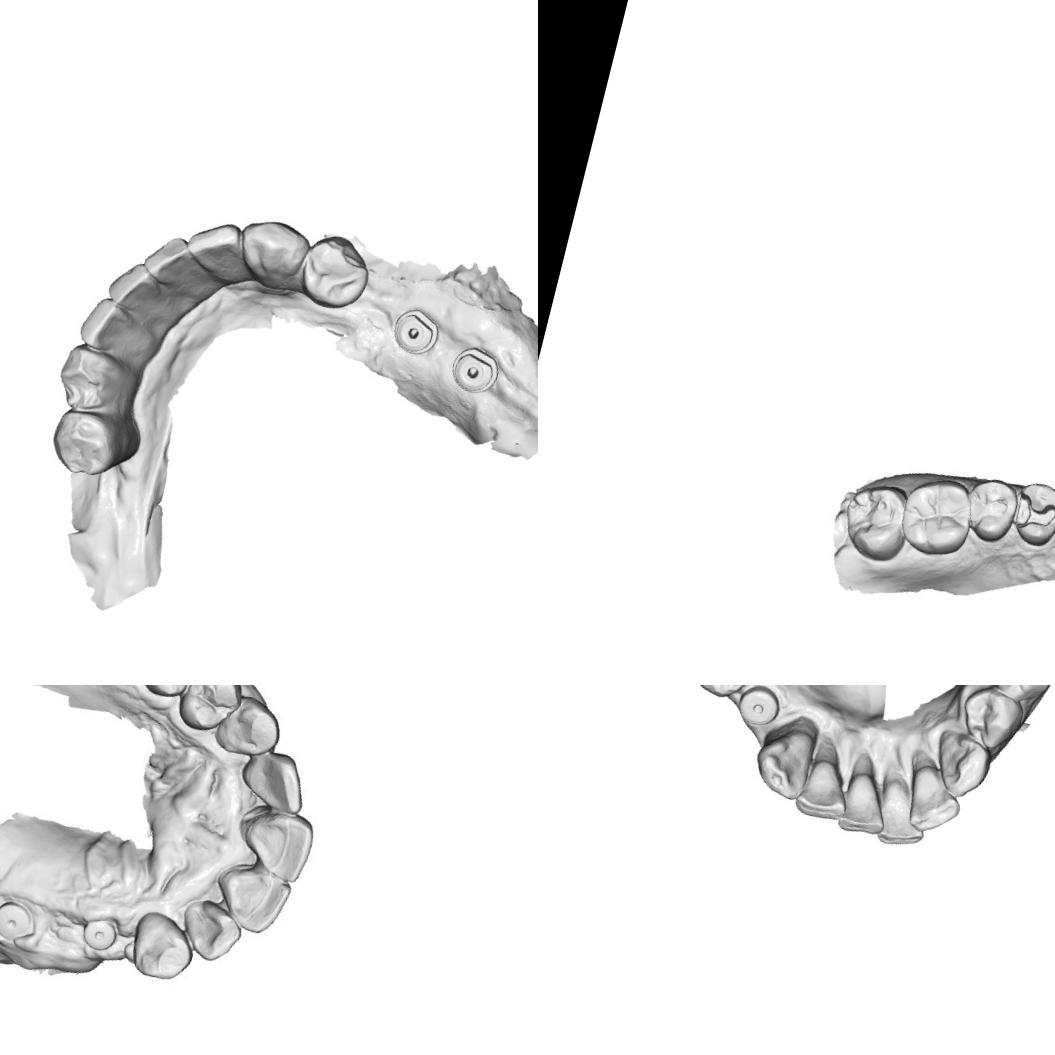canine: (49, 339, 140, 422), (229, 212, 312, 298), (122, 902, 197, 988), (207, 689, 286, 770), (922, 725, 996, 804), (748, 722, 818, 802)
implant: (444, 339, 514, 404), (390, 301, 444, 362), (76, 906, 125, 956), (731, 685, 784, 730), (0, 890, 38, 946)
incisor: (174, 893, 251, 968), (242, 805, 316, 882), (219, 861, 292, 935), (899, 763, 968, 839), (72, 290, 140, 361), (872, 776, 935, 850), (179, 212, 249, 276), (101, 253, 168, 318), (792, 756, 855, 825), (834, 770, 893, 839), (246, 751, 308, 812), (138, 228, 198, 289)
inlay: (1009, 488, 1055, 539)
molar: (892, 468, 981, 562), (833, 474, 917, 566)
premolar: (44, 401, 135, 485), (294, 228, 374, 314), (954, 685, 1025, 754), (958, 473, 1023, 547), (180, 685, 244, 734), (138, 685, 211, 706), (983, 685, 1055, 705), (683, 685, 760, 703)
